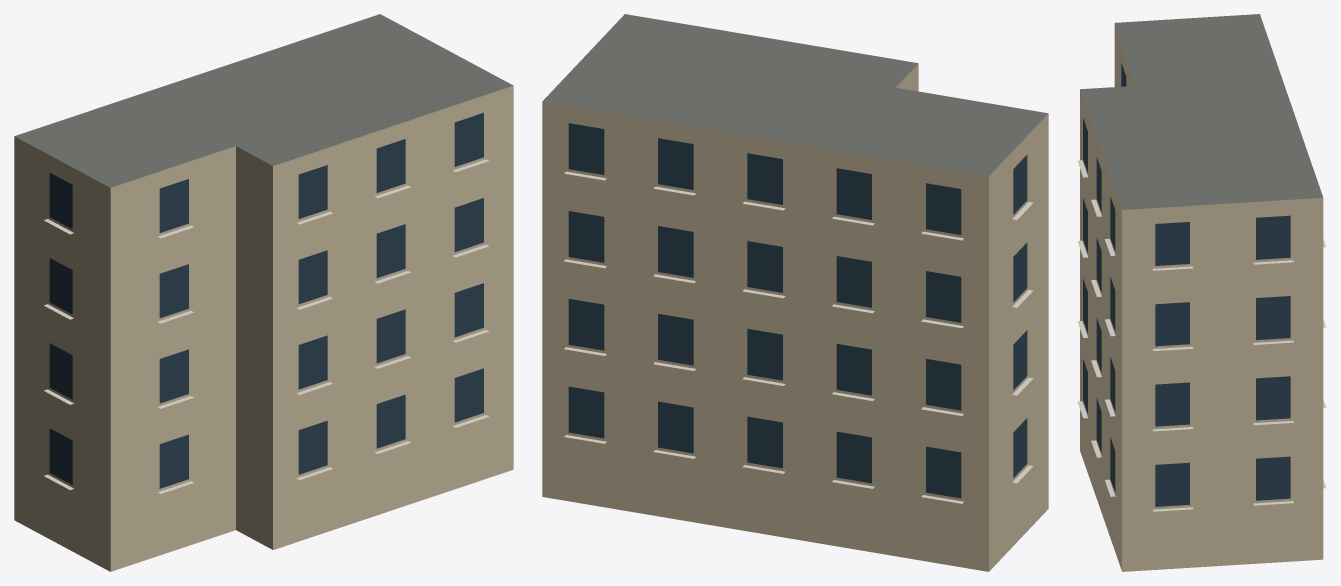
3 renders of one model, left to right at view 1: azimuth 30°, elevation 25°; view 2: azimuth 150°, elevation 25°; view 3: azimuth 270°, elevation 25°, orthographic. The views are drawn at different scales.
Visible parts, largest first — view 1: Footprint 0, Inferred window bays, Window sills; view 2: Footprint 0, Inferred window bays, Window sills; view 3: Footprint 0, Inferred window bays, Window sills.
Part boxes in pixels (bbox=[...]): Footprint 0: bbox=[14, 14, 513, 571]; Inferred window bays: bbox=[49, 112, 483, 488]; Window sills: bbox=[44, 159, 489, 493]; Footprint 0: bbox=[542, 14, 1048, 571]; Inferred window bays: bbox=[568, 123, 1027, 498]; Window sills: bbox=[564, 171, 1033, 503]; Footprint 0: bbox=[1080, 14, 1323, 571]; Inferred window bays: bbox=[1083, 63, 1290, 506]; Window sills: bbox=[1077, 160, 1326, 511].
Size of the model in its own units: 16.56 by 14.19 by 8.85.
